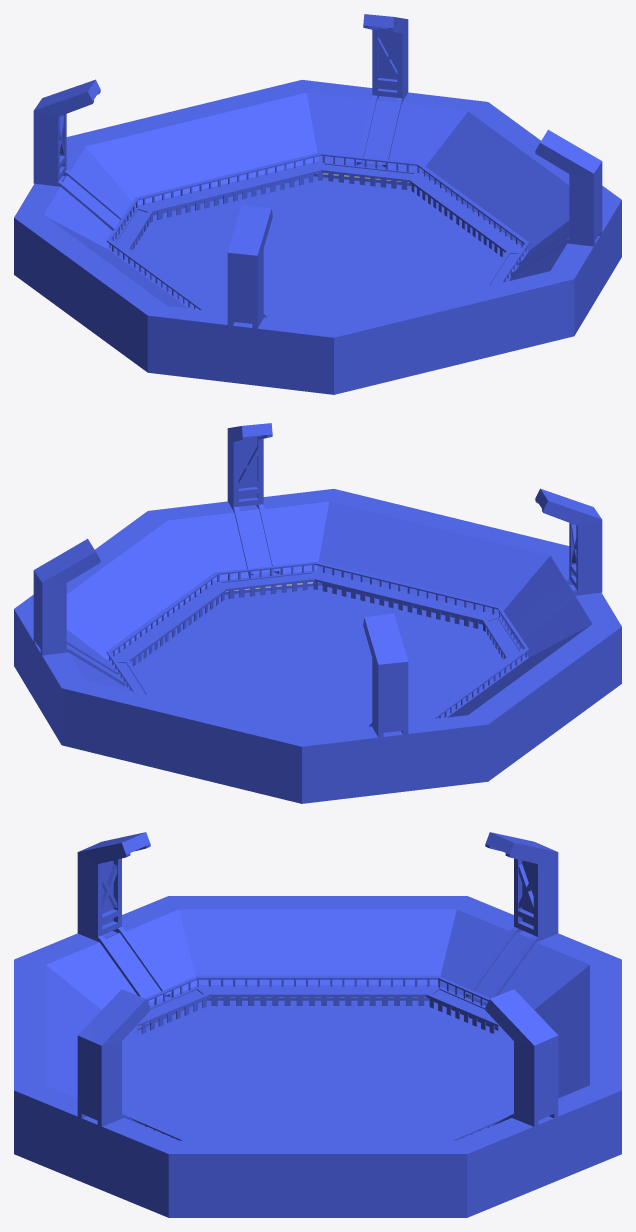
The model's file is arena.glb.
The picture shows the model from 3 angles, top to bottom: view 1: azimuth 30°, elevation 25°; view 2: azimuth 150°, elevation 25°; view 3: azimuth 270°, elevation 25°; orthographic projection. The views are drawn at different scales.
Parts seen in each view (by area): view 1: Cube, Cube.006, Cube.001, Cube.007; view 2: Cube, Cube.006, Cube.001, Cube.007; view 3: Cube, Cube.006, Cube.001, Cube.007.
Part boxes in pixels (left/top/right/bottom): Cube: left=14, top=14, right=621, bottom=394; Cube.006: left=43, top=92, right=569, bottom=308; Cube.001: left=130, top=172, right=503, bottom=257; Cube.007: left=109, top=156, right=526, bottom=309; Cube: left=14, top=423, right=621, bottom=803; Cube.006: left=66, top=501, right=592, bottom=717; Cube.001: left=132, top=581, right=505, bottom=666; Cube.007: left=109, top=565, right=526, bottom=718; Cube: left=14, top=832, right=621, bottom=1217; Cube.006: left=46, top=909, right=589, bottom=1098; Cube.001: left=137, top=997, right=494, bottom=1035; Cube.007: left=145, top=979, right=490, bottom=1137.
Size of the model in its own units: 45.33 by 14.18 by 45.1.
